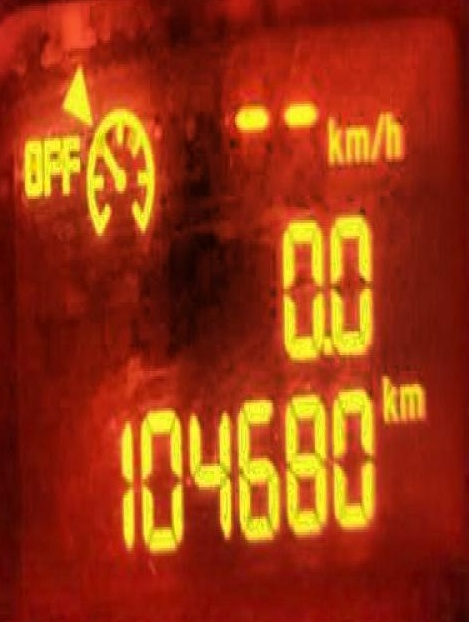-: (321, 331, 333, 357)
0: (139, 402, 185, 553), (279, 215, 325, 363), (327, 209, 373, 355), (330, 384, 375, 529)
1: (117, 415, 136, 553)
4: (186, 407, 233, 545)
6: (233, 394, 281, 548)
8: (282, 386, 328, 540)
X: (59, 130, 80, 199), (21, 135, 42, 198), (397, 379, 426, 424), (325, 109, 344, 167), (344, 122, 370, 164), (383, 106, 402, 161), (42, 135, 59, 196), (381, 371, 398, 429), (370, 109, 384, 164)
